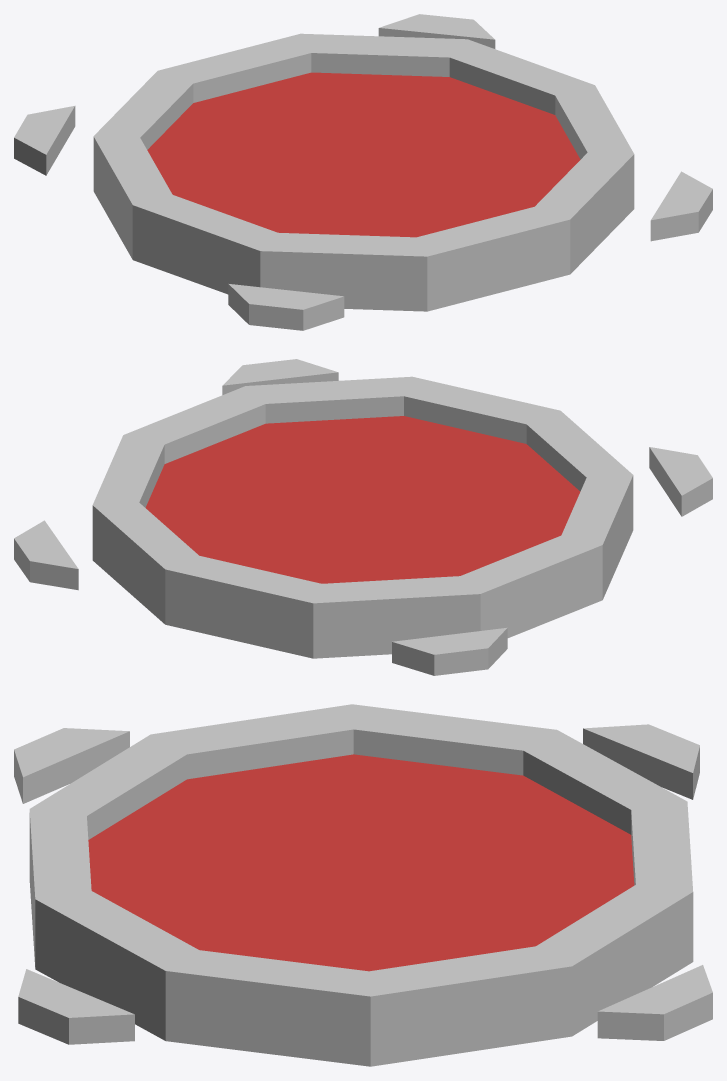
Rendered from portal.fbx.
3 views of the same model, one above another, from view 1: azimuth 30°, elevation 25°; view 2: azimuth 150°, elevation 25°; view 3: azimuth 270°, elevation 25° (orthographic). The views are drawn at different scales.
Visible parts, largest first — view 1: Cylinder, Cube; view 2: Cylinder, Cube; view 3: Cylinder, Cube.
Part boxes in pixels (x1=…): Cylinder: x1=93, y1=33, x2=634, y2=311; Cube: x1=14, y1=14, x2=712, y2=330; Cylinder: x1=92, y1=376, x2=633, y2=658; Cube: x1=14, y1=359, x2=712, y2=675; Cylinder: x1=29, y1=704, x2=693, y2=1066; Cube: x1=14, y1=724, x2=712, y2=1044.
Size of the model in its own units: 550 by 61.19 by 552.
